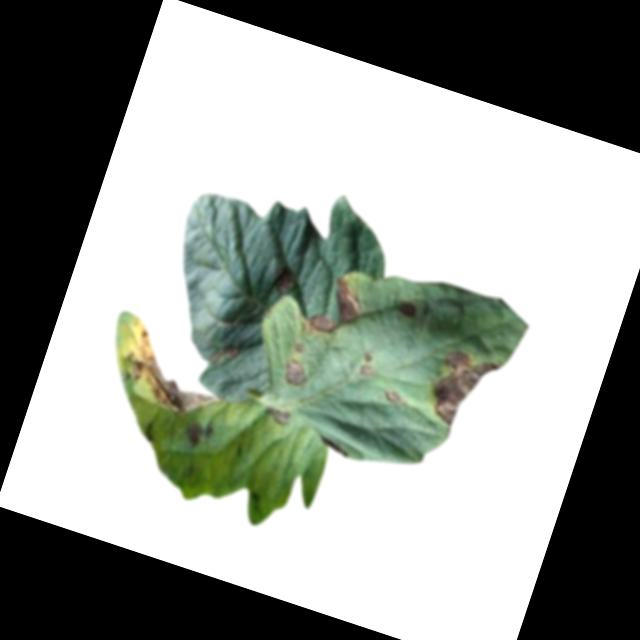Early_blight: (116, 327, 230, 423), (425, 347, 502, 435), (301, 270, 373, 350), (180, 417, 214, 453), (270, 265, 302, 298), (280, 357, 310, 390), (210, 341, 241, 370), (263, 403, 293, 427), (393, 298, 419, 324), (356, 352, 378, 380), (378, 386, 402, 407), (292, 342, 308, 356)
